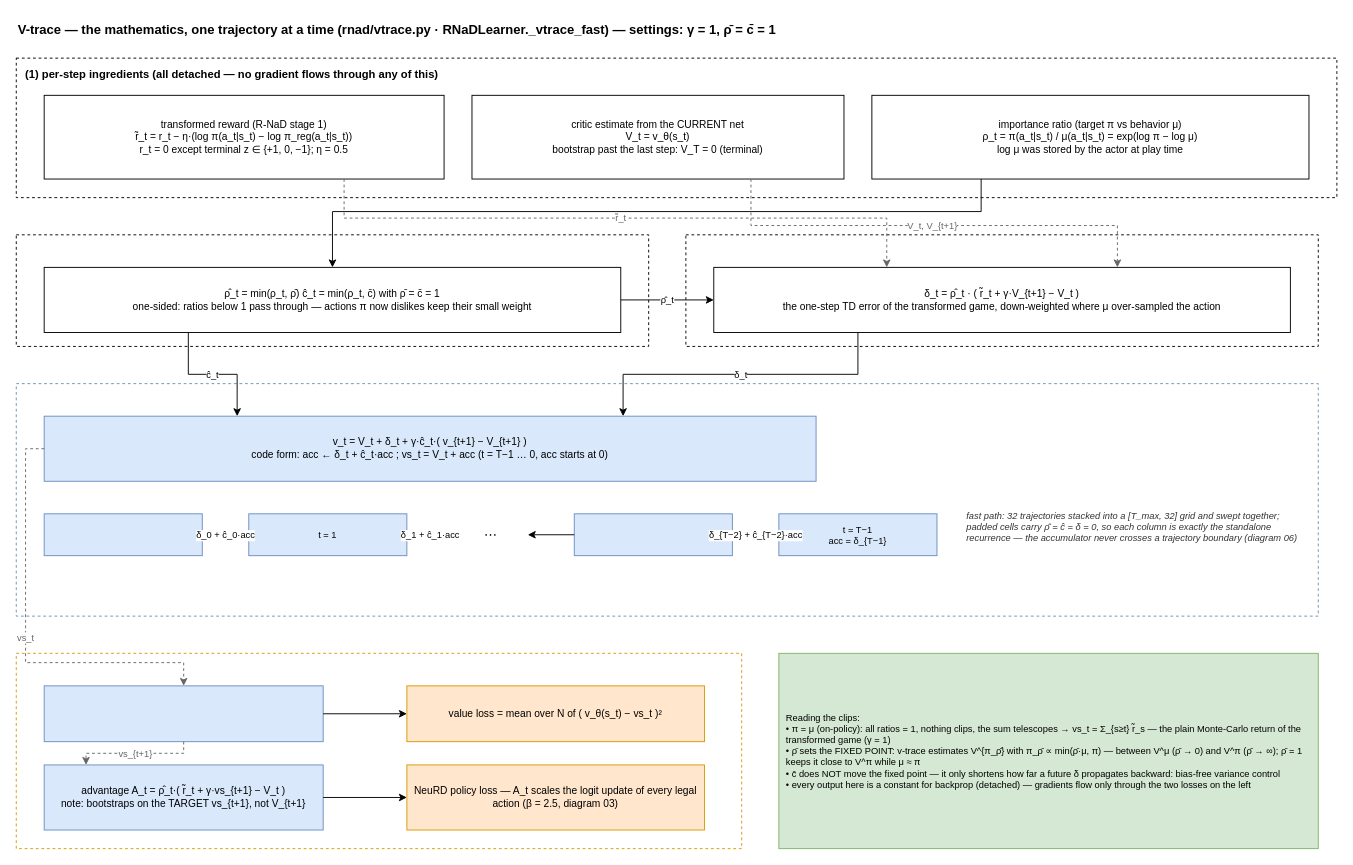
Some shapes in this 1353 by 865 pixel diagram are drawn without their labels. The box of each missing label's shape, as (x1, y1, x2, y2) in pixels:
(2) clipping: (15, 234, 649, 346)
(3) weighted TD error: (685, 234, 1318, 346)
(4) backward recurrence — one sweep per trajectory, right to left: (15, 383, 1318, 616)
(5) outputs → losses: (15, 652, 742, 849)
t = 0 vs_0 = V_0 + acc: (43, 513, 202, 556)
t = T−2: (573, 513, 732, 556)
value target vs_t (detached): (43, 685, 323, 742)
